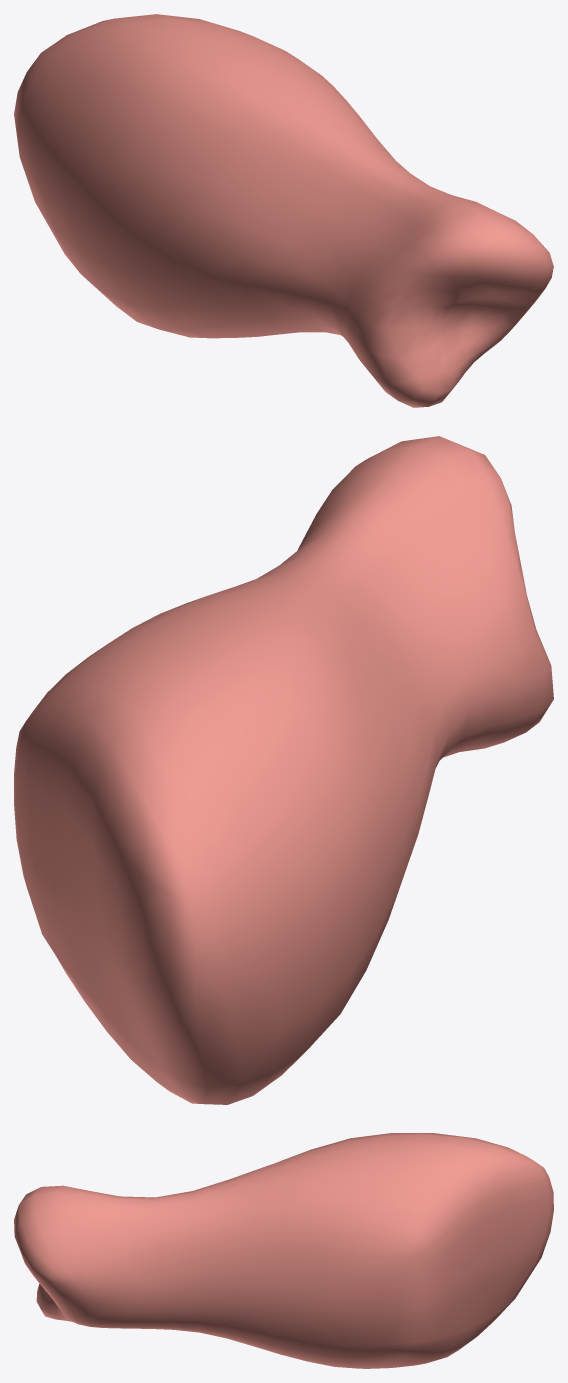
Rendered from mixamo_humanoid_surface_rightUpLeg.fbx.
The picture shows the model from 3 angles, top to bottom: view 1: azimuth 30°, elevation 25°; view 2: azimuth 150°, elevation 25°; view 3: azimuth 270°, elevation 25°; orthographic projection. The views are drawn at different scales.
Parts seen in each view (by area): view 1: surface_RightUpLeg; view 2: surface_RightUpLeg; view 3: surface_RightUpLeg.
Part boxes in pixels (x1=…): surface_RightUpLeg: x1=14, y1=14, x2=553, y2=407; surface_RightUpLeg: x1=14, y1=436, x2=553, y2=1104; surface_RightUpLeg: x1=14, y1=1133, x2=553, y2=1368.
Bounding box in the file's own units: 18.97 × 20.87 × 45.4.
